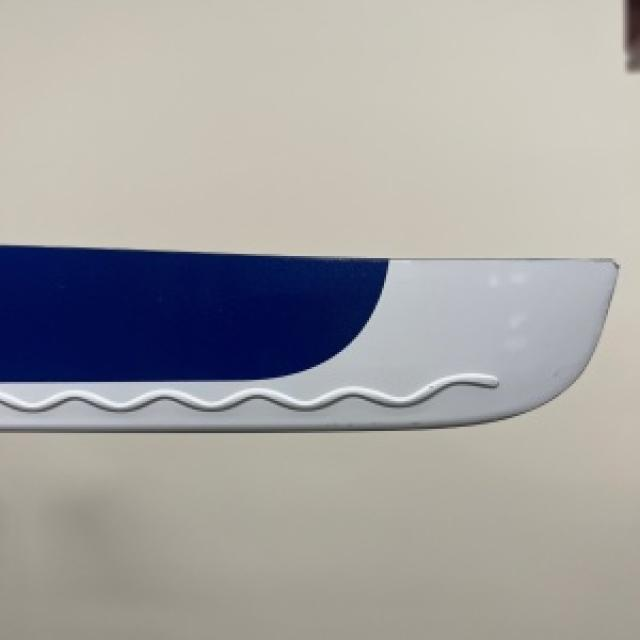healthy: (0, 243, 612, 429)
